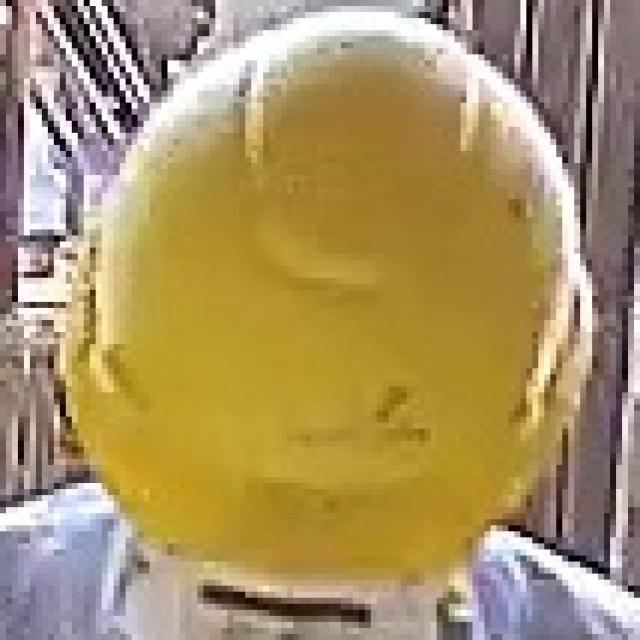yellow helmet: (44, 19, 599, 581)
